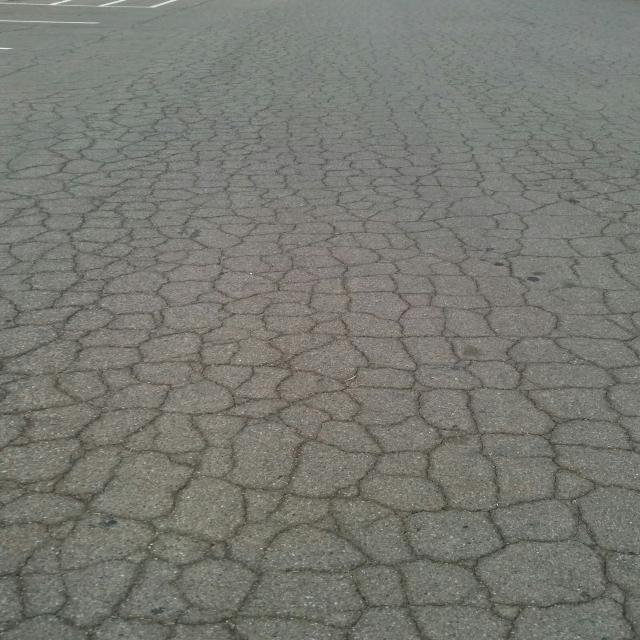Drain Hole: (55, 18, 640, 634)
